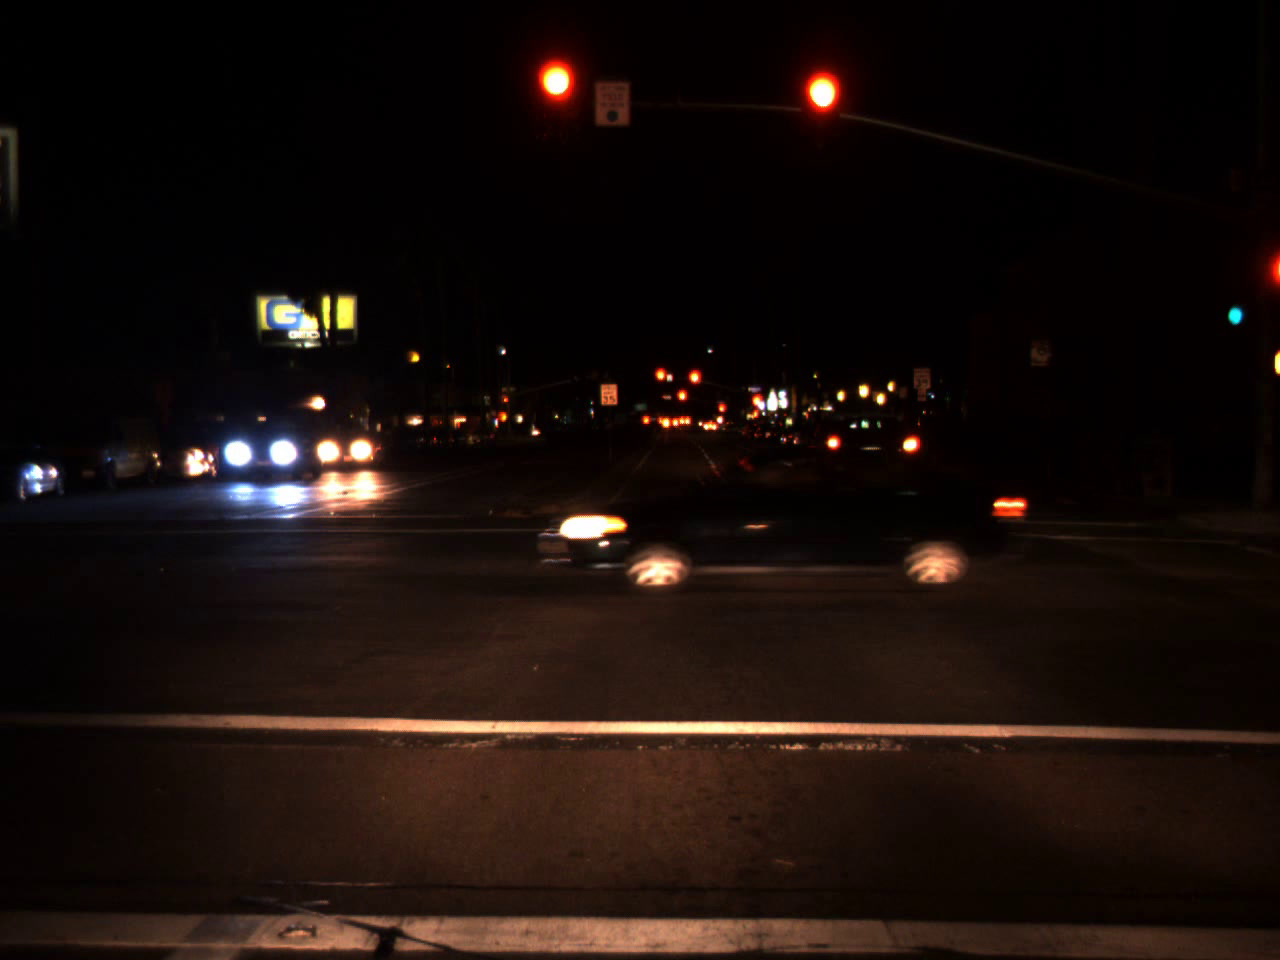stop: (537, 61, 577, 139), (802, 72, 841, 150), (686, 366, 703, 403), (653, 366, 671, 395), (749, 392, 764, 421), (675, 387, 688, 414), (717, 402, 727, 423), (503, 395, 509, 408)
